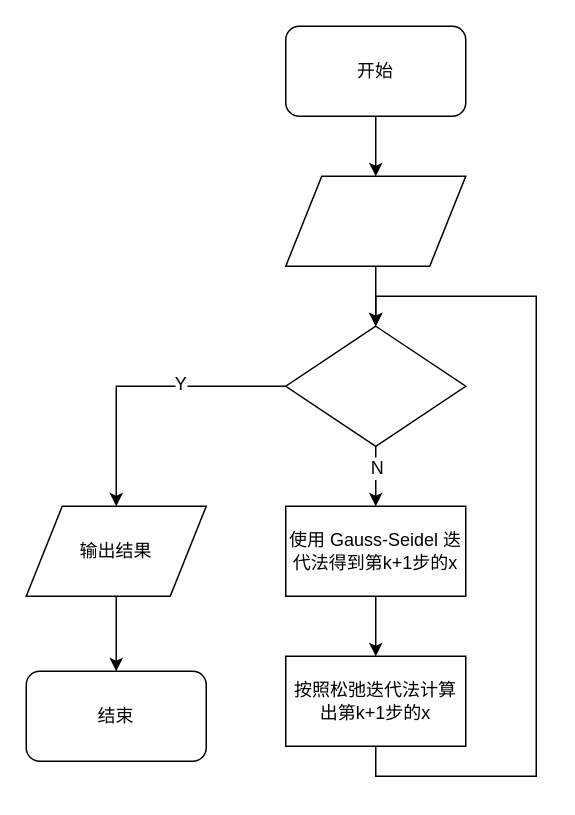
Image size: 575x815. Some labels were removed from this diagram. The centre of each missing label's shape, as x and y in pixels:
输入omega: (375,220)
达到要求精度？: (375,385)
